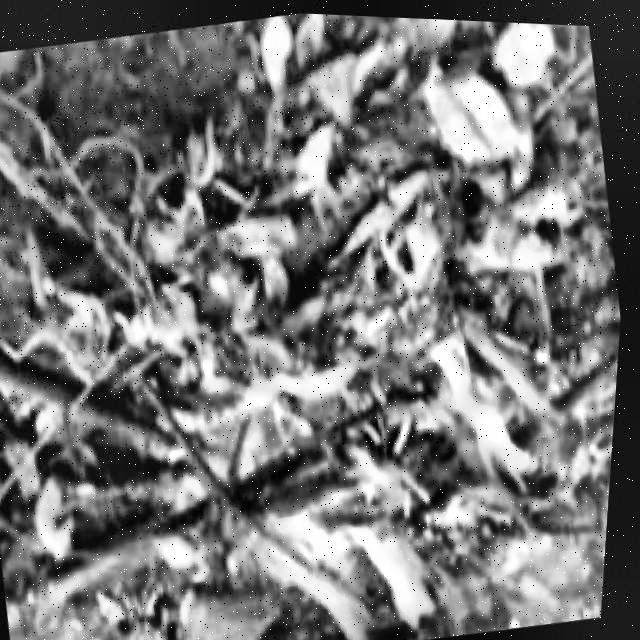Fire: (191, 234, 627, 640)
